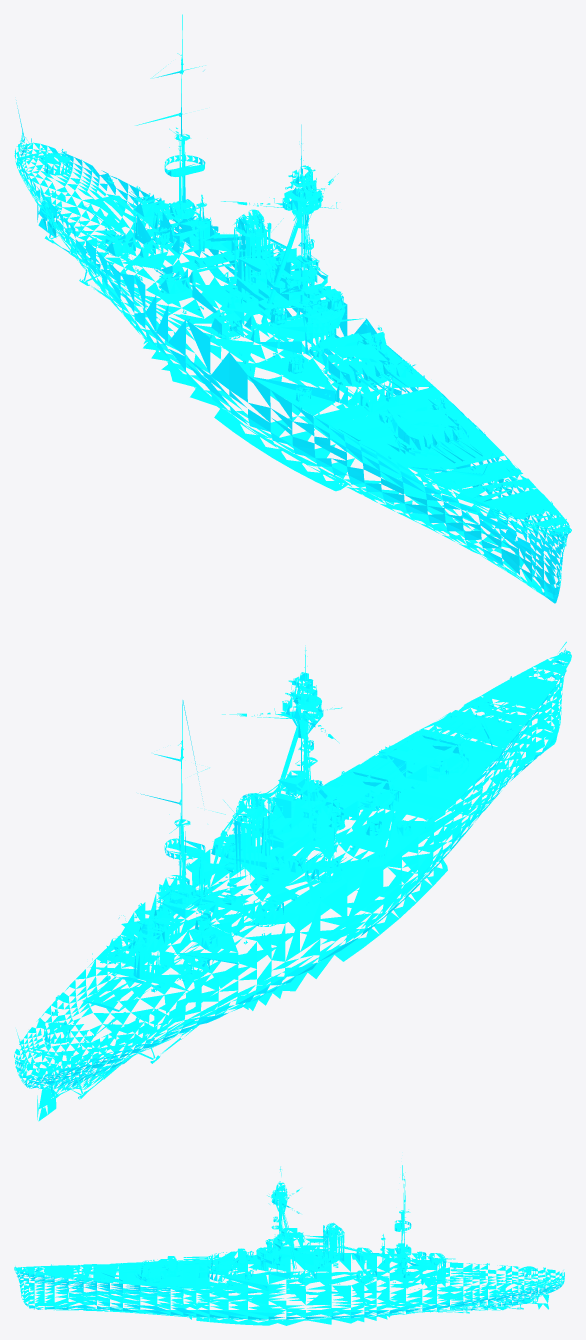
The model's file is PFSC208.glb.
3 views of the same model, one above another, from view 1: azimuth 30°, elevation 25°; view 2: azimuth 150°, elevation 25°; view 3: azimuth 270°, elevation 25° (orthographic). The views are drawn at different scales.
Parts seen in each view (by area): view 1: hull_mid, hull_bow, main_battery, hull_stern, secondary_battery, hull_body, aa_mount; view 2: hull_mid, hull_bow, main_battery, hull_stern, secondary_battery, hull_body, aa_mount; view 3: hull_mid, hull_bow, hull_stern, main_battery, secondary_battery, hull_body.
Part boxes in pixels (box(x1,y1,x2,y2)): hull_mid: box(51, 14, 443, 491); hull_bow: box(324, 393, 571, 603); main_battery: box(308, 332, 483, 463); hull_stern: box(14, 100, 128, 263); secondary_battery: box(100, 191, 346, 337); hull_body: box(153, 124, 381, 374); aa_mount: box(136, 225, 415, 402); hull_mid: box(51, 694, 447, 1084); hull_bow: box(326, 641, 571, 873); main_battery: box(319, 720, 484, 817); hull_stern: box(14, 1005, 128, 1121); secondary_battery: box(100, 833, 346, 980); hull_body: box(153, 645, 382, 930); aa_mount: box(137, 797, 414, 950); hull_mid: box(188, 1165, 498, 1325); hull_bow: box(14, 1260, 196, 1317); hull_stern: box(496, 1265, 564, 1310); main_battery: box(113, 1248, 247, 1279); secondary_battery: box(289, 1247, 455, 1285); hull_body: box(245, 1166, 410, 1279).
Size of the model in its own units: 1.91 by 4.2 by 13.29.
